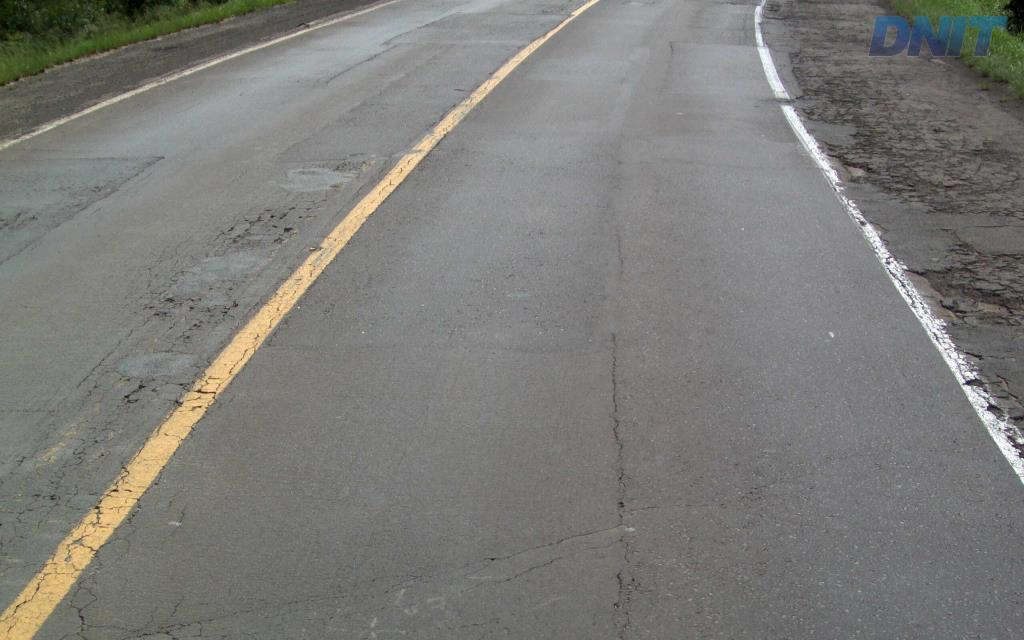crack: (609, 567, 653, 639)
